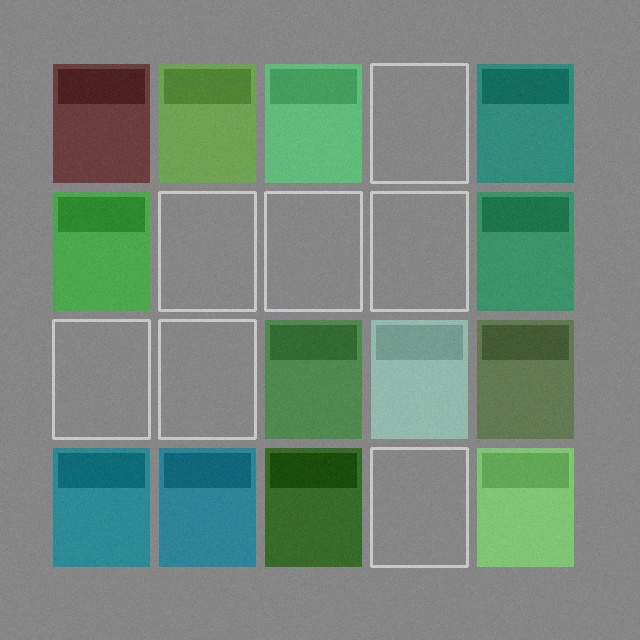space-empty: (371, 64, 467, 182), (159, 192, 255, 310), (265, 192, 361, 310), (371, 192, 467, 310), (53, 320, 149, 438), (159, 320, 255, 438), (371, 448, 467, 566)
space-occupied: (53, 64, 149, 182), (159, 64, 255, 182), (265, 64, 361, 182), (477, 64, 573, 182), (53, 192, 149, 310), (477, 192, 573, 310), (265, 320, 361, 438), (371, 320, 467, 438), (477, 320, 573, 438), (53, 448, 149, 566), (159, 448, 255, 566), (265, 448, 361, 566), (477, 448, 573, 566)
